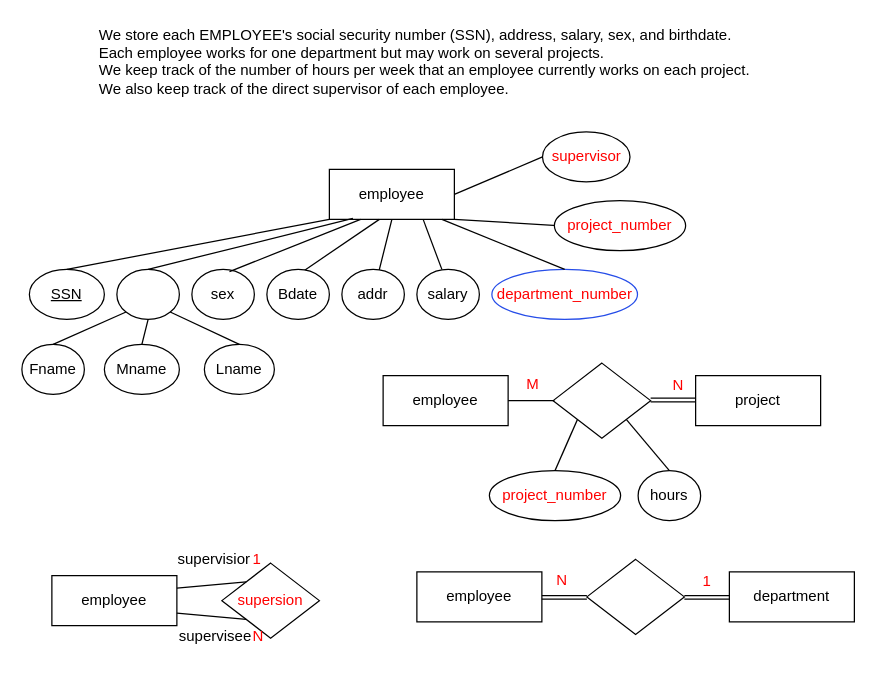
Some shapes in this 876 by 679 pixel diagram are drawn without their labels. The centre of each missing label's shape, as x and y in pixels:
"name" goes at (147,293).
"works_for" goes at (635,596).
"works_on" goes at (601,400).
